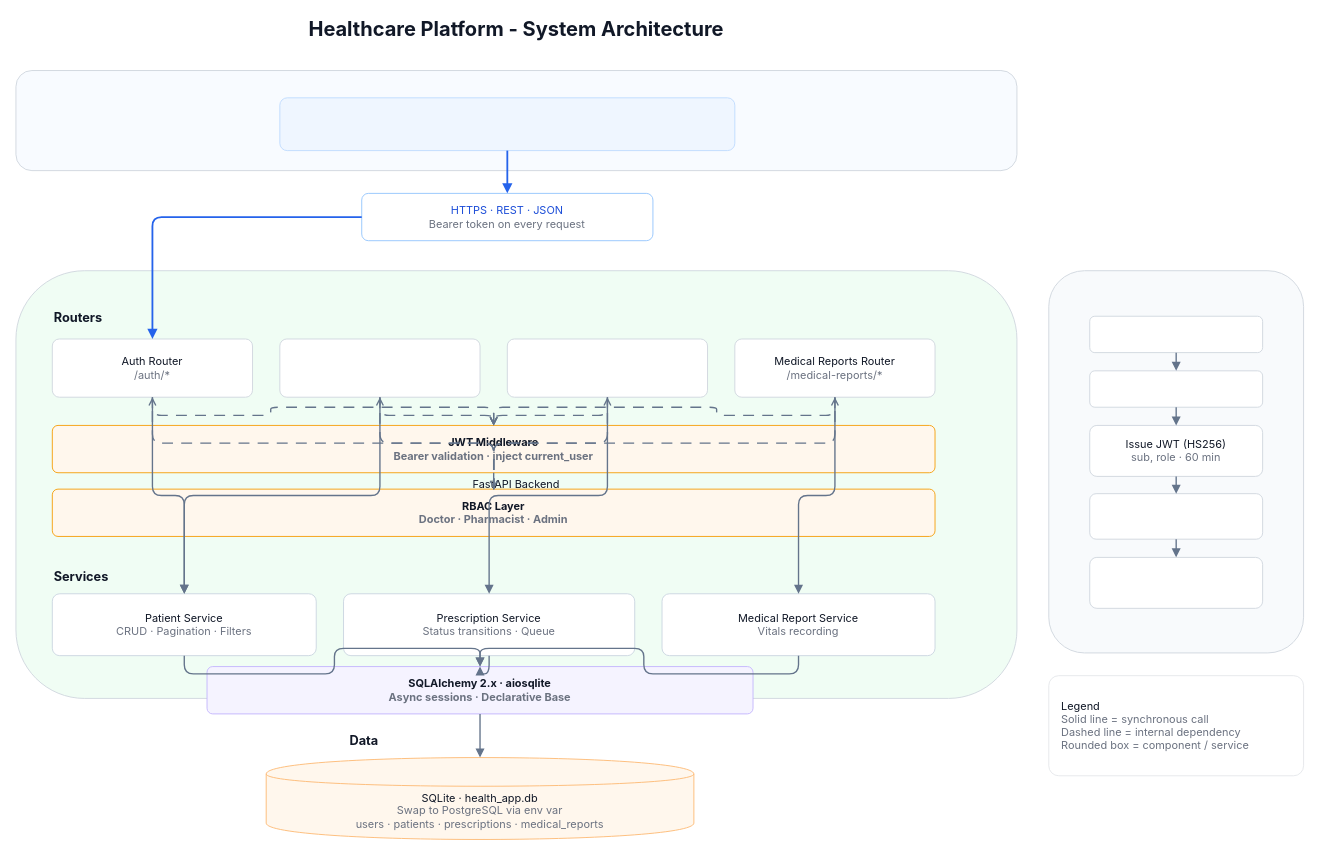
This 1320x855 diagram has some shape labels left out. The shapes that lost their labels are listed below. From the top down, each one's centre as x and y in pixels, then its label:
point (507, 124): React SPA Vite + TypeScript Router · Query · Forms · Axios
point (1176, 334): POST /auth/login
point (379, 367): Patients Router /patients/*
point (607, 367): Prescriptions Router /prescriptions/*
point (1176, 388): Verify bcrypt password
point (1176, 516): Store token localStorage
point (1176, 582): Axios interceptor Authorization: Bearer <token>
